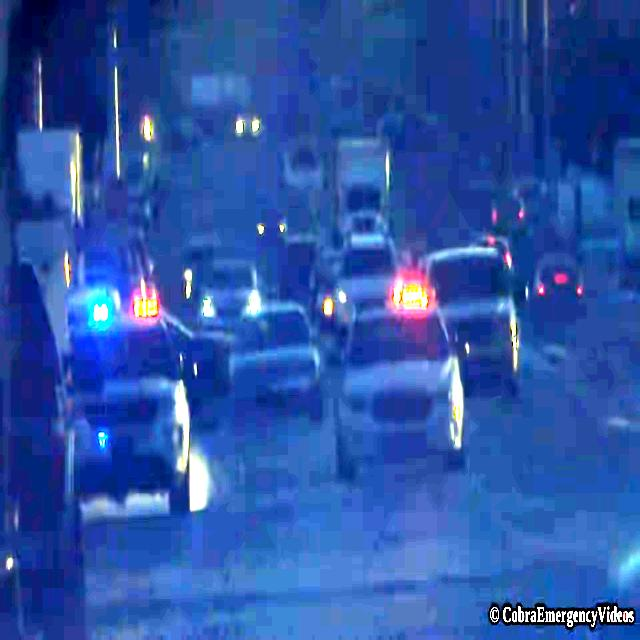emergency-vehicles: (58, 289, 195, 516), (323, 282, 472, 488)
